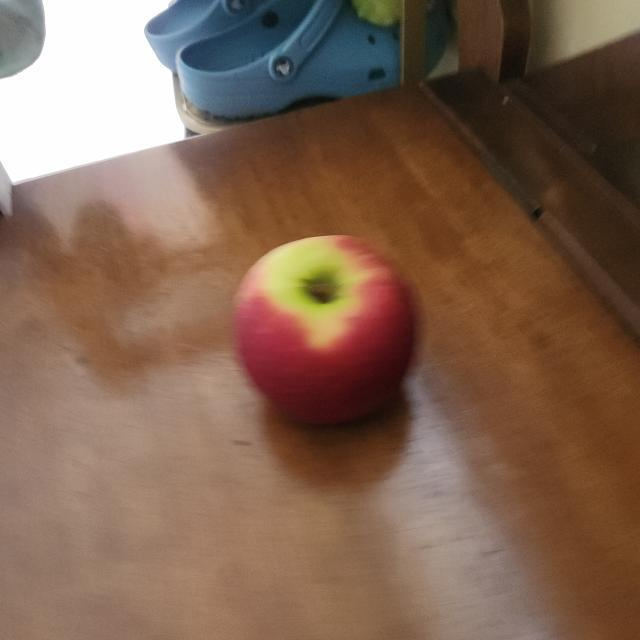apple: (229, 227, 426, 447)
